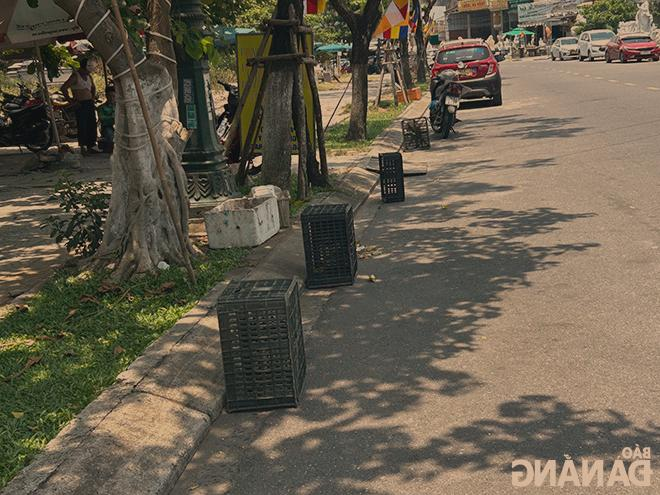ROAD_OBSTACLE: (197, 252, 327, 413), (292, 199, 375, 306), (190, 179, 302, 251), (373, 140, 410, 202)
